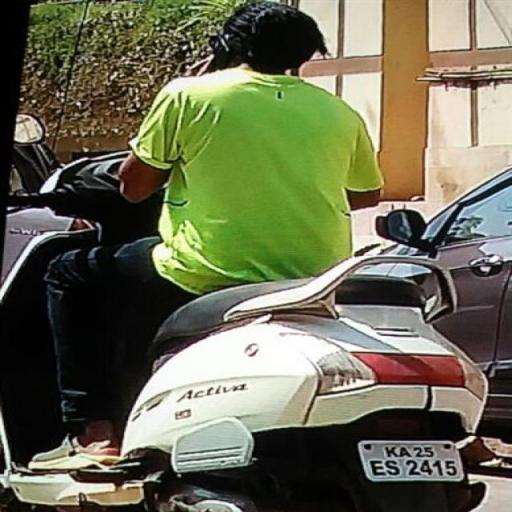numberplate: (363, 437, 464, 485)
using mobile: (199, 36, 236, 76)
